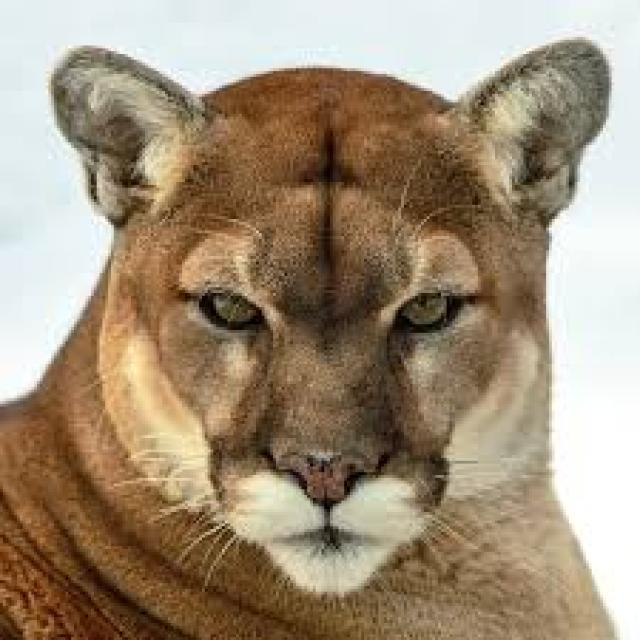Lion: (0, 42, 621, 637)
